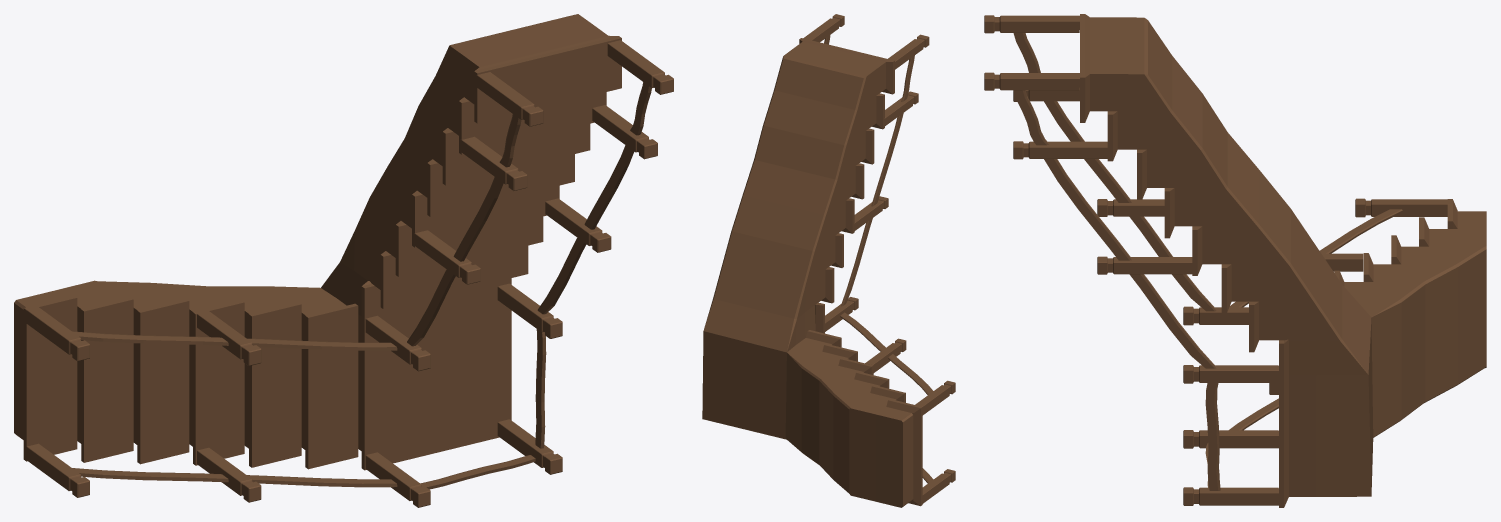
File: Stair_Angle.fbx
The picture shows the model from 3 angles, left to right: view 1: azimuth 30°, elevation 25°; view 2: azimuth 150°, elevation 25°; view 3: azimuth 270°, elevation 25°; orthographic projection. The views are drawn at different scales.
Visible parts, largest first — view 1: escalier plein angle; view 2: escalier plein angle; view 3: escalier plein angle.
Boxes of the visible parts, x1,y1,x2,y2 form: escalier plein angle: (14, 14, 673, 507); escalier plein angle: (702, 14, 955, 507); escalier plein angle: (984, 14, 1486, 507).
Bounding box in the file's own units: 260 × 303 × 321.
